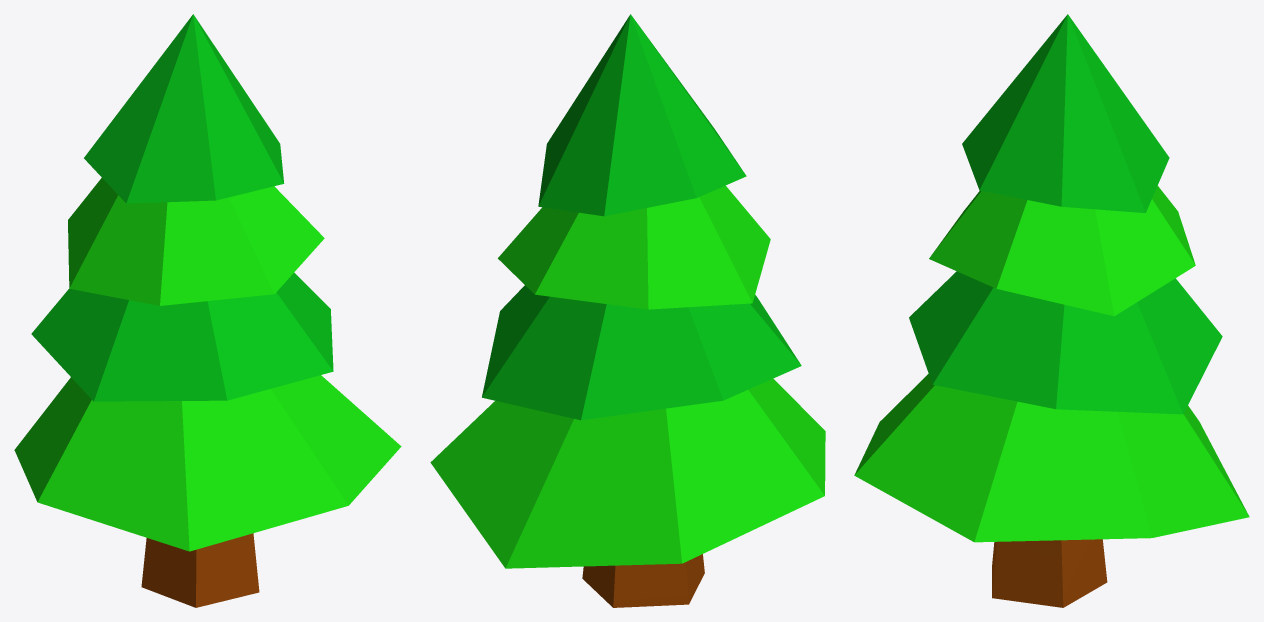
File: Tree_25_Spring.fbx
3 views of the same model, side by side, from view 1: azimuth 30°, elevation 25°; view 2: azimuth 150°, elevation 25°; view 3: azimuth 270°, elevation 25° (orthographic). The views are drawn at different scales.
Parts seen in each view (by area): view 1: Tree_25_p2_Spring, Tree_25_p1_Spring; view 2: Tree_25_p2_Spring, Tree_25_p1_Spring; view 3: Tree_25_p2_Spring, Tree_25_p1_Spring.
Part boxes in pixels (bbox=[...]): Tree_25_p2_Spring: bbox=[14, 14, 401, 551]; Tree_25_p1_Spring: bbox=[141, 533, 259, 607]; Tree_25_p2_Spring: bbox=[430, 14, 825, 568]; Tree_25_p1_Spring: bbox=[582, 554, 704, 607]; Tree_25_p2_Spring: bbox=[854, 14, 1249, 542]; Tree_25_p1_Spring: bbox=[992, 539, 1107, 607].
Bounding box in the file's own units: 151 × 242 × 152.
